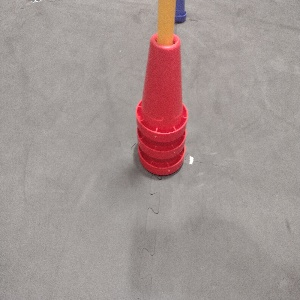Blue_1: (174, 0, 187, 24)
Red_3: (135, 32, 187, 176)
